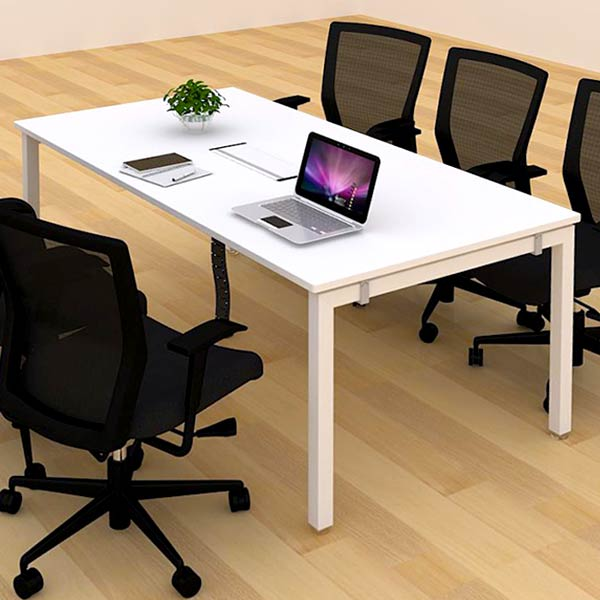conference_table: (13, 86, 581, 532)
